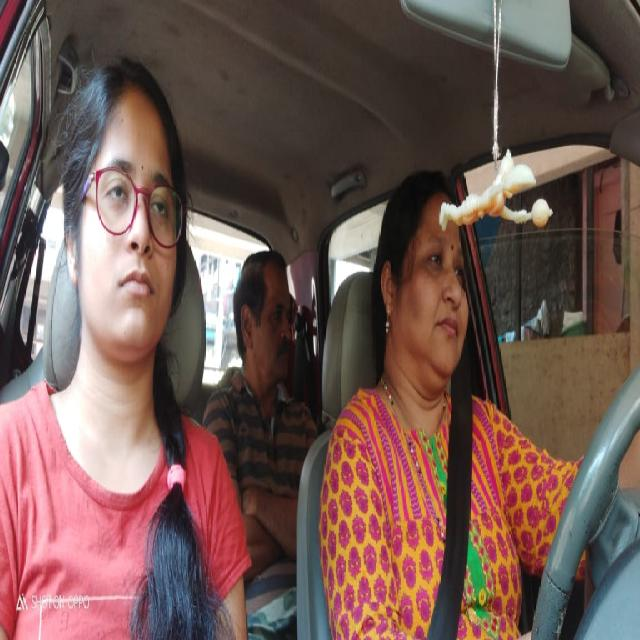person: (59, 51, 192, 375), (372, 165, 472, 412), (230, 246, 299, 398)
